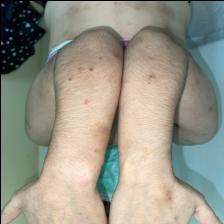DA: (58, 48, 118, 110), (130, 44, 172, 102)
